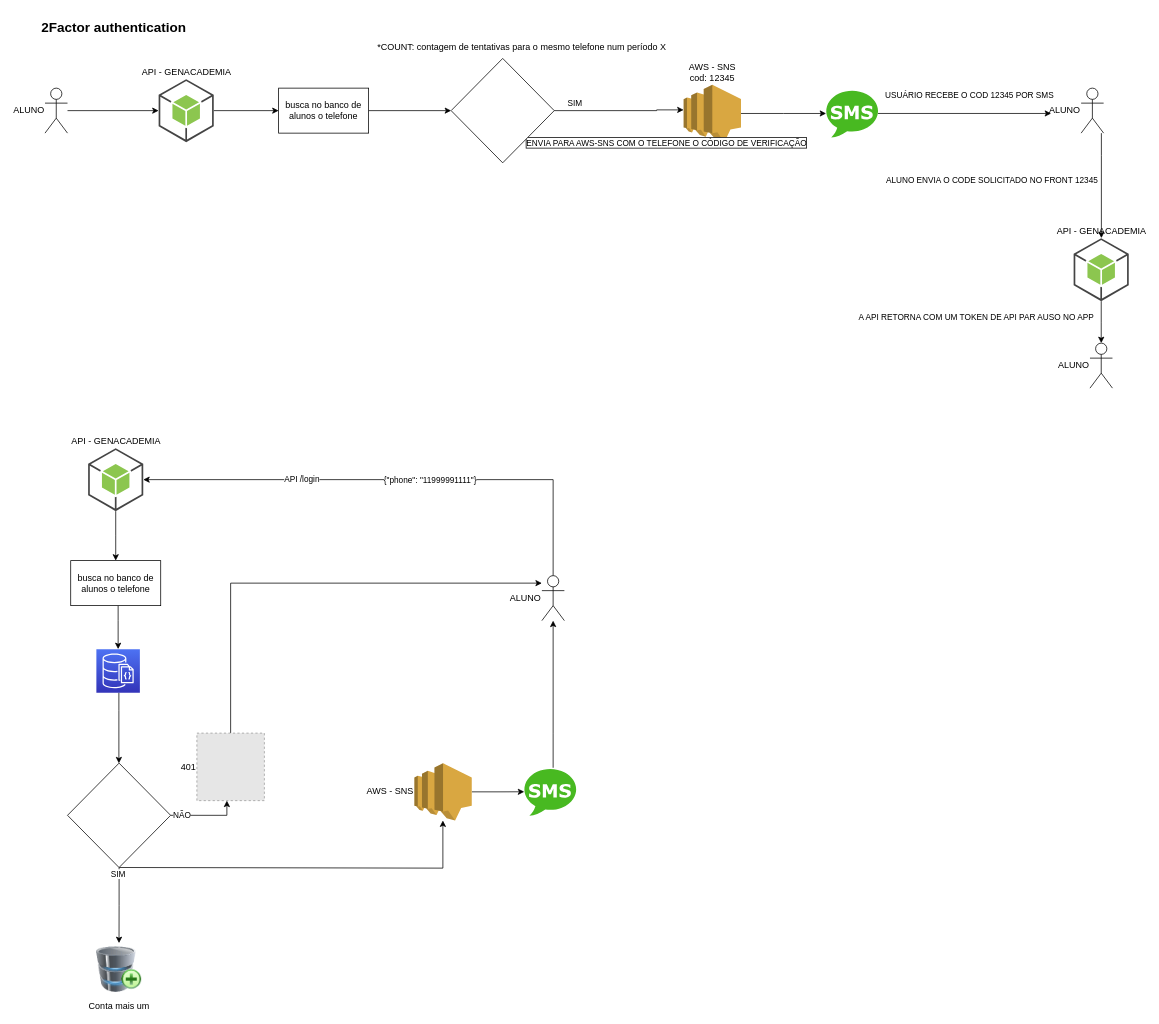
Some shapes in this 1159 by 1024 pixel diagram are drawn without their labels. Grey dashed boxes stand in for pictures. The centre of each missing label's shape, as x and y in pixels:
mongo: pixel 118 670
Phone exists? Phone *count < 3?: pixel 502 110
Phone exists? Phone count < 3?: pixel 119 815
